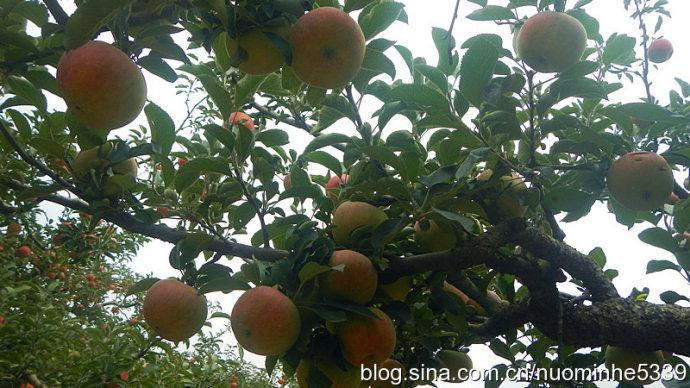apple: (57, 40, 147, 128), (288, 7, 364, 90), (230, 284, 301, 356), (516, 12, 587, 74), (609, 151, 673, 215), (143, 276, 207, 340), (332, 306, 396, 367), (226, 12, 288, 73), (318, 251, 377, 308), (332, 201, 386, 247), (227, 112, 255, 133)
